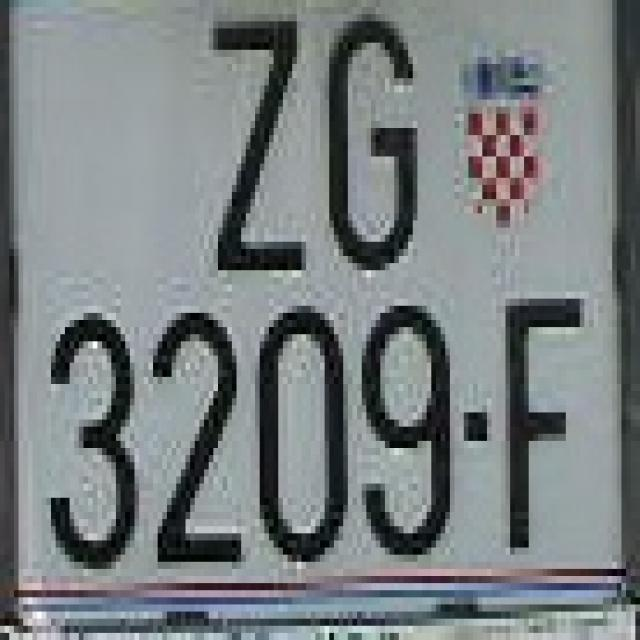0: (251, 306, 357, 569)
2: (139, 299, 251, 576)
3: (42, 299, 144, 576)
9: (352, 299, 454, 569)
F: (487, 277, 594, 576)
G: (316, 22, 440, 270)
Z: (200, 7, 316, 277)
